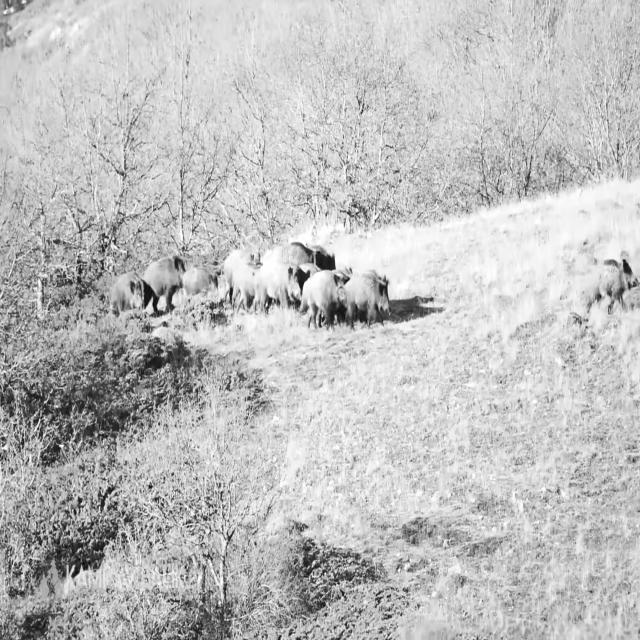boar: (224, 241, 388, 325), (110, 257, 218, 313), (600, 257, 640, 313)
